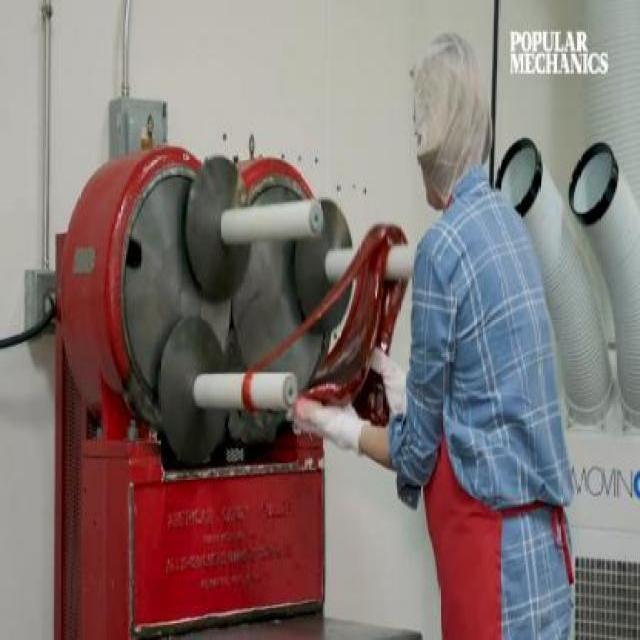gloved_hand: (290, 382, 370, 477)
